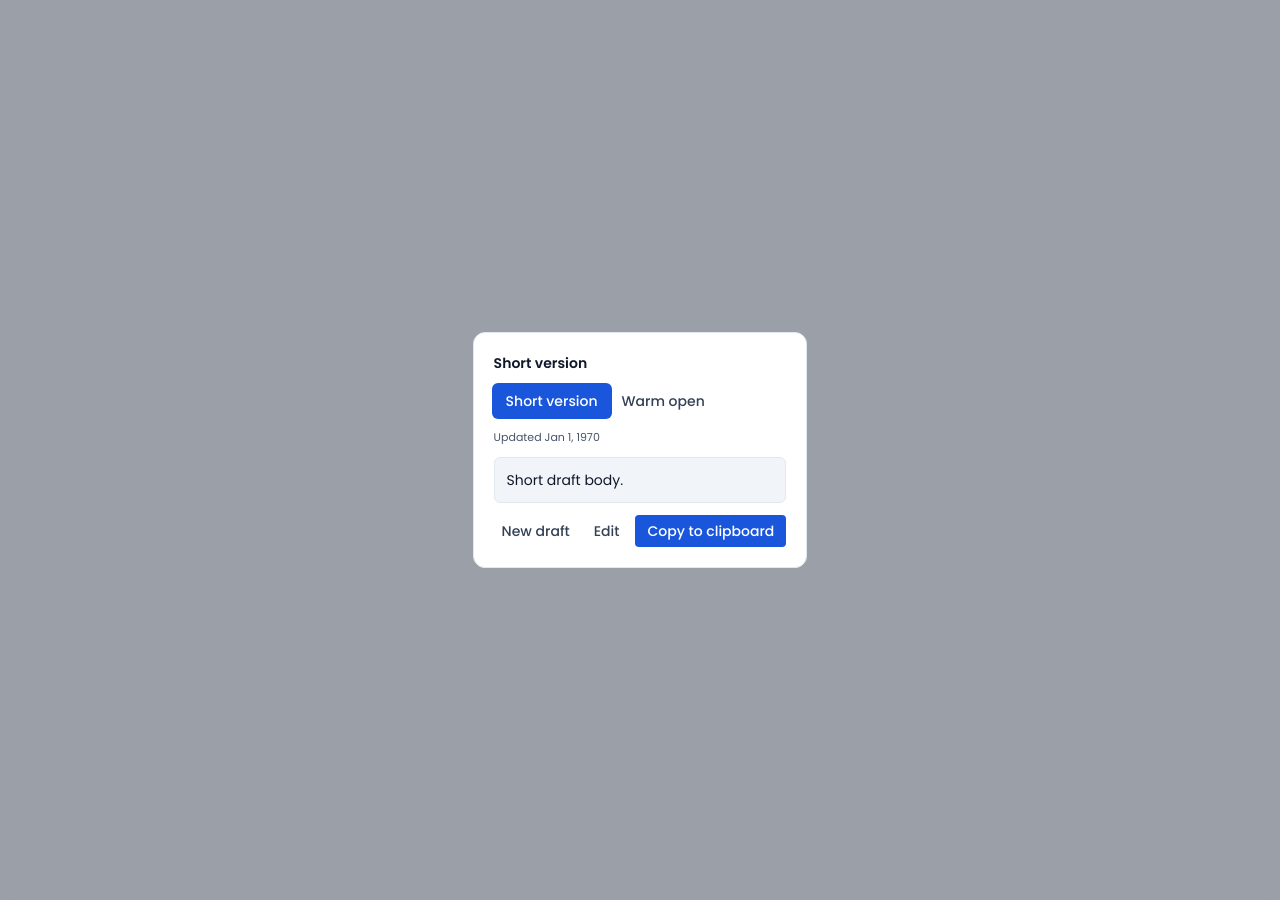
Test: LetterRevealDialog › lists several drafts by label, most-recent first, and switches the shown body
The width and height of the screenshot is (1280, 900).
Expected: the text with class "whitespace-pre-wrap" reads "Short draft body.", [507,470,623,490]
Click the button "Warm open".
click(663, 401)  # box [614,389,713,413]
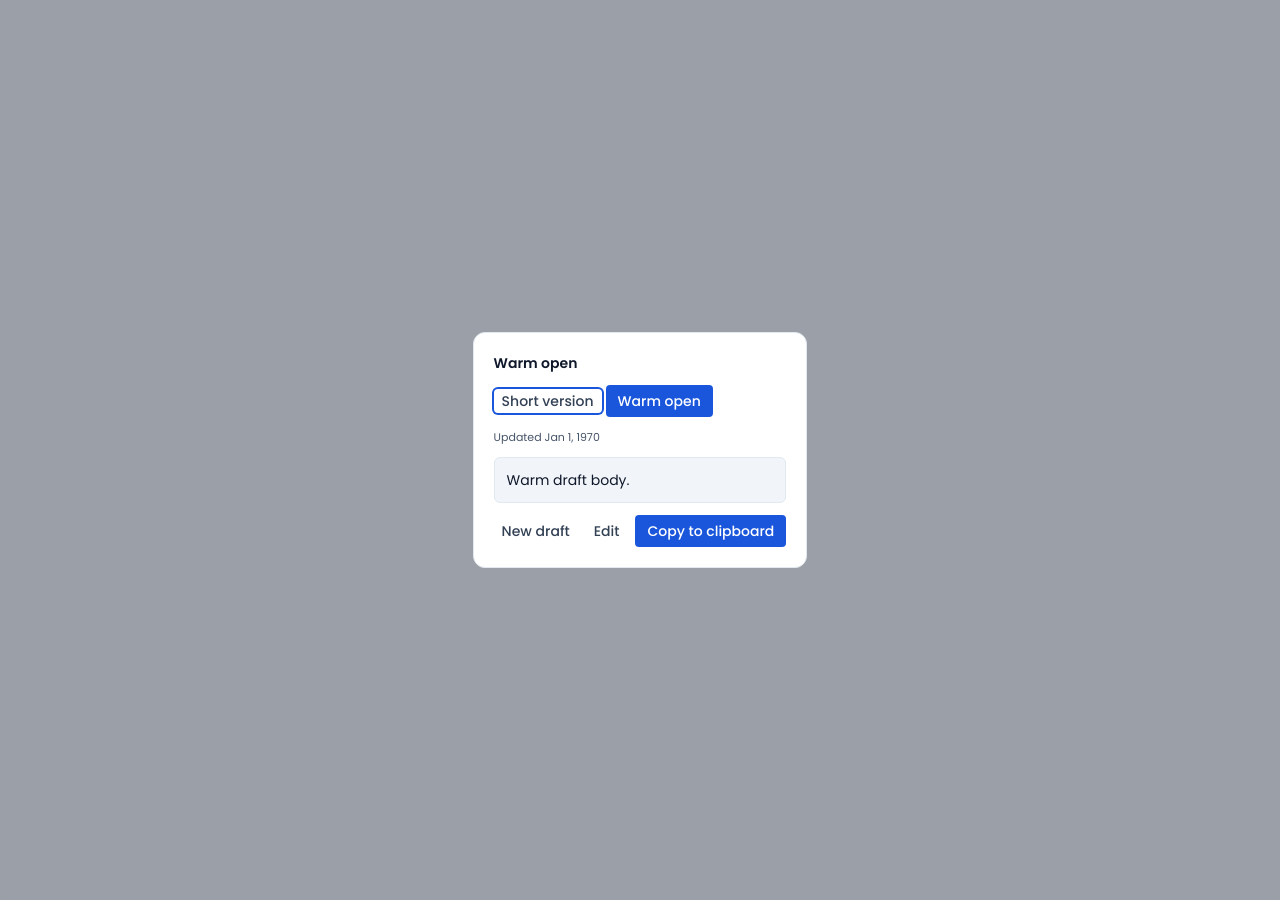
Now the text with class "whitespace-pre-wrap" reads "Warm draft body.", box [507,470,629,490]
